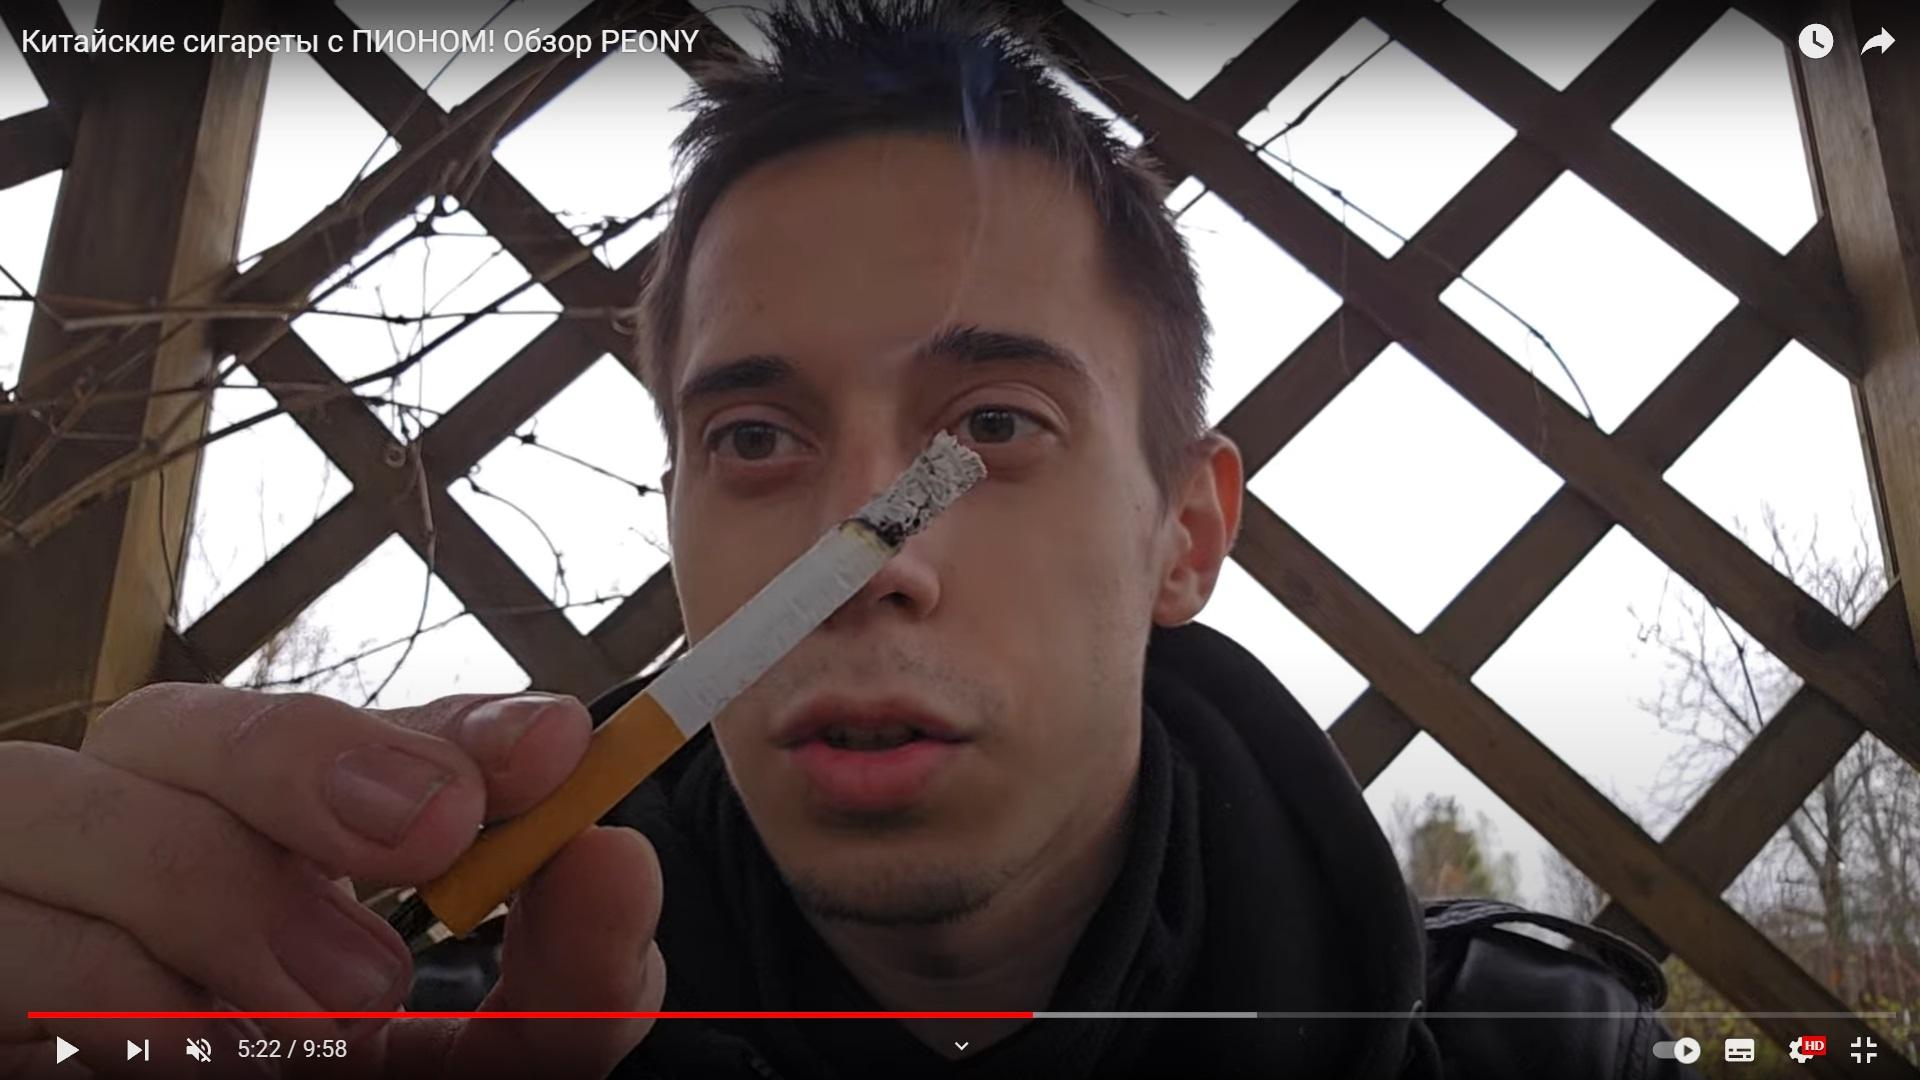cigarette: (421, 436, 982, 932)
